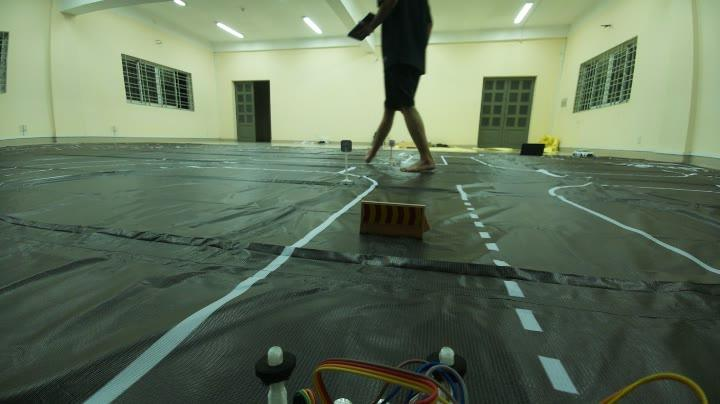roadblock: (356, 195, 441, 254)
